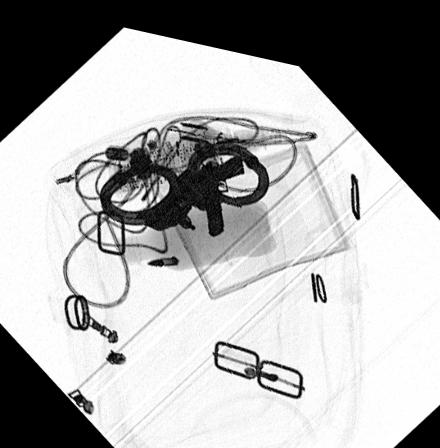Bullet: (145, 247, 177, 258)
Gun: (198, 145, 245, 227)
HandCuffs: (97, 127, 270, 226)
